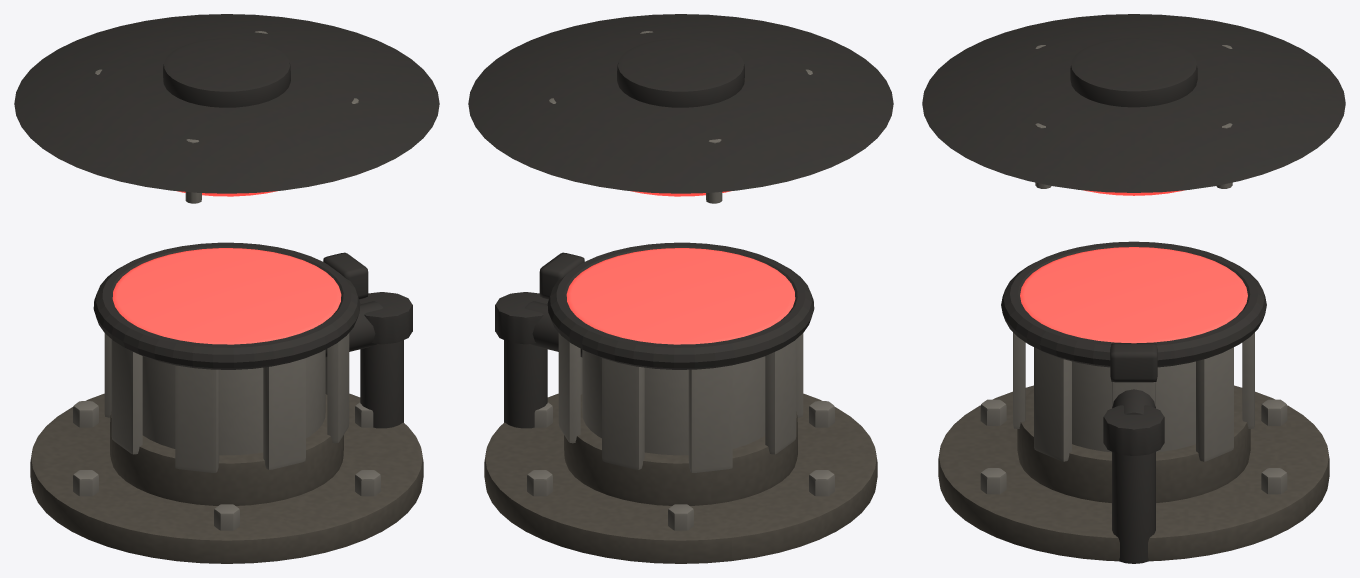
Rendered from beacon_kit.glb.
3 renders of one model, left to right at view 1: azimuth 30°, elevation 25°; view 2: azimuth 150°, elevation 25°; view 3: azimuth 270°, elevation 25°, orthographic.
Parts seen in each view (by area): view 1: hood, mount, sink, lens, sink_clamp, feed, mount_bolts; view 2: hood, mount, sink, lens, sink_clamp, feed, mount_bolts; view 3: hood, mount, lens, sink, sink_clamp, feed, mount_bolts.
Part boxes in pixels (x1,y1,x2,y2): hood: [14, 14, 439, 193]; mount: [30, 393, 423, 563]; sink: [104, 333, 349, 472]; lens: [112, 191, 341, 344]; sink_clamp: [93, 242, 368, 369]; feed: [325, 292, 412, 428]; mount_bolts: [73, 401, 380, 530]; hood: [468, 14, 893, 193]; mount: [484, 393, 877, 563]; sink: [558, 333, 803, 472]; lens: [566, 191, 795, 344]; sink_clamp: [539, 242, 814, 369]; feed: [495, 292, 582, 428]; mount_bolts: [527, 401, 834, 530]; hood: [922, 14, 1345, 192]; mount: [938, 385, 1329, 561]; lens: [1020, 190, 1247, 343]; sink: [1013, 332, 1254, 461]; sink_clamp: [1001, 241, 1266, 382]; feed: [1103, 389, 1164, 563]; mount_bolts: [980, 399, 1287, 494].
Bounding box in the file's own units: 0.4652 × 0.504 × 0.4652.
Materials: 4 (3 with a texture image).
